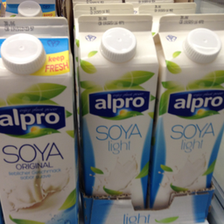milk: (1, 17, 82, 224), (76, 15, 155, 213), (153, 14, 223, 224)
